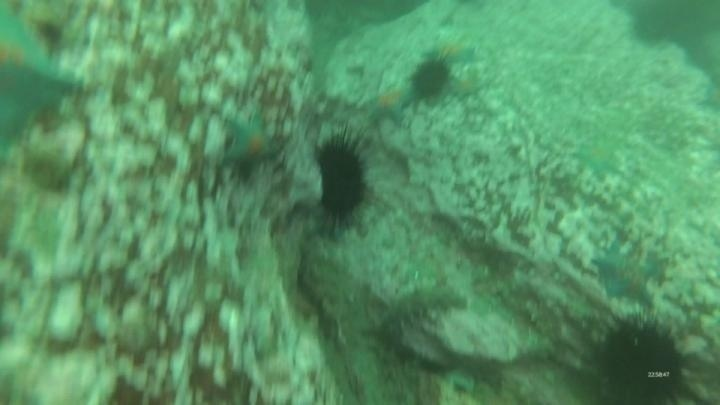echinus: (588, 311, 696, 404), (311, 130, 373, 233), (626, 2, 719, 51), (408, 57, 452, 101)
holothurian: (368, 278, 468, 336)
starfish: (0, 8, 84, 149), (589, 239, 665, 308), (220, 115, 281, 180), (363, 81, 417, 127), (572, 136, 624, 179), (423, 35, 479, 69), (447, 71, 484, 102)
